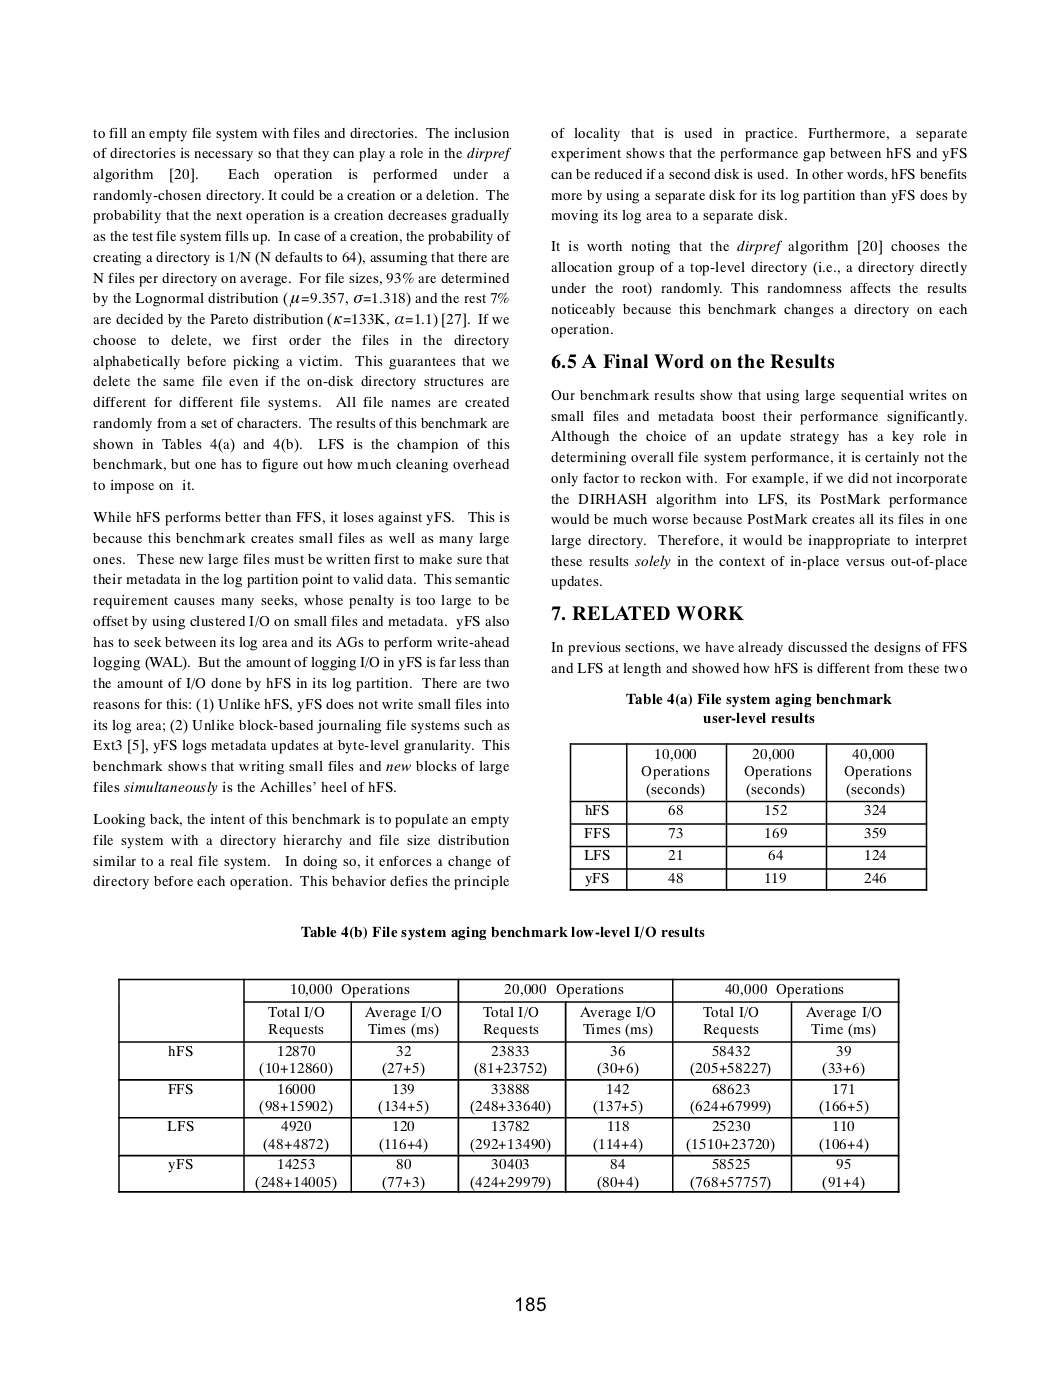Table: (118, 977, 899, 1192), (570, 742, 927, 890)
